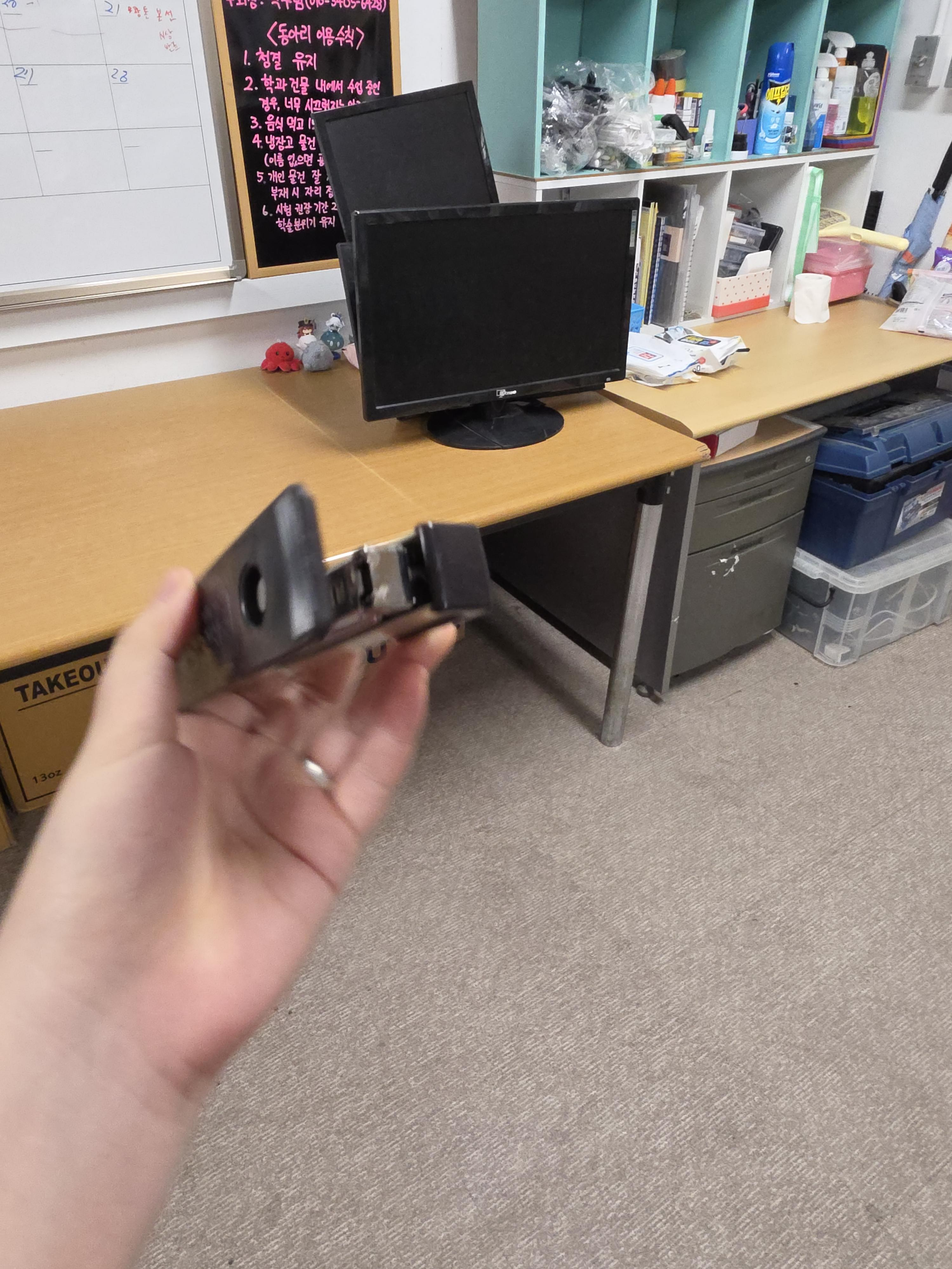stapler: (176, 482, 495, 711)
tissue: (788, 272, 833, 325), (737, 249, 772, 278)
